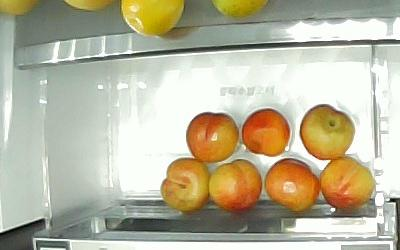prune: (298, 103, 355, 160), (318, 154, 375, 209), (207, 158, 263, 213), (264, 157, 319, 212), (159, 156, 211, 212), (185, 110, 239, 163), (240, 107, 291, 157)
